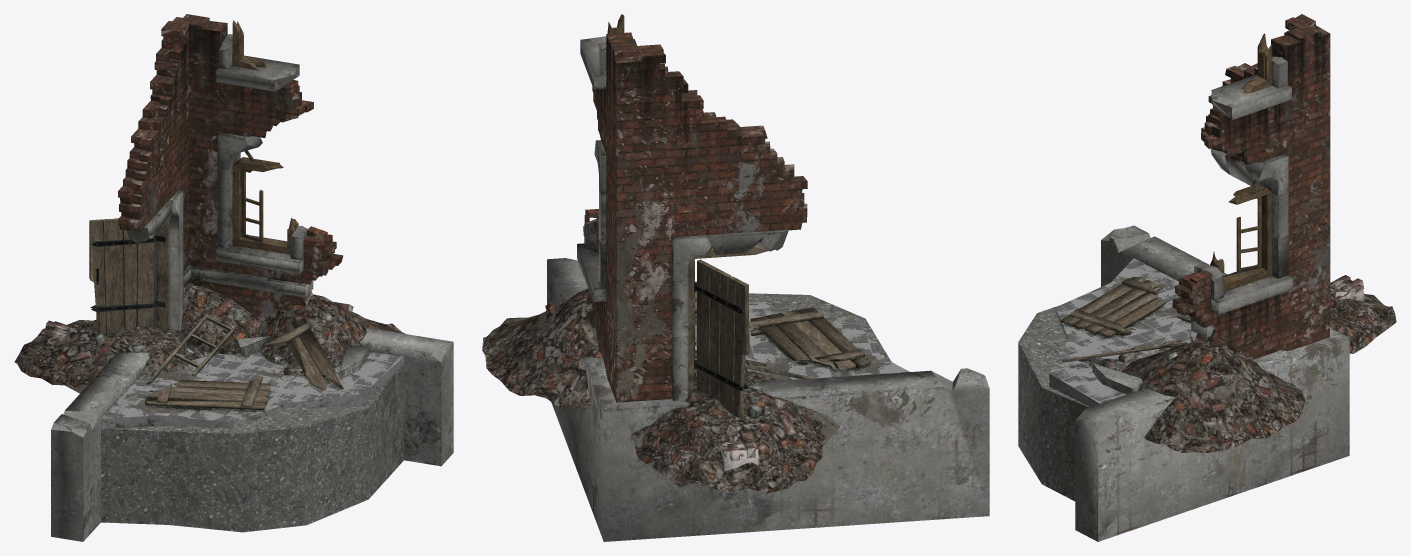
File: Ruins.glb
3 views of the same model, side by side, from view 1: azimuth 30°, elevation 25°; view 2: azimuth 150°, elevation 25°; view 3: azimuth 270°, elevation 25° (orthographic). The views are drawn at different scales.
Parts seen in each view (by area): view 1: Obj3d66-8386636-2-699, Obj3d66-8386636-46-768; view 2: Obj3d66-8386636-2-699, Obj3d66-8386636-46-768; view 3: Obj3d66-8386636-2-699, Obj3d66-8386636-46-768.
Part boxes in pixels (x1,y1,x2,y2): Obj3d66-8386636-2-699: [14, 218, 453, 541]; Obj3d66-8386636-46-768: [118, 14, 343, 331]; Obj3d66-8386636-2-699: [482, 244, 989, 541]; Obj3d66-8386636-46-768: [577, 14, 807, 402]; Obj3d66-8386636-2-699: [1018, 225, 1396, 541]; Obj3d66-8386636-46-768: [1172, 14, 1330, 359].
Size of the model in its own units: 1.17 by 1.18 by 0.9299.
2 materials, 2 textured.
